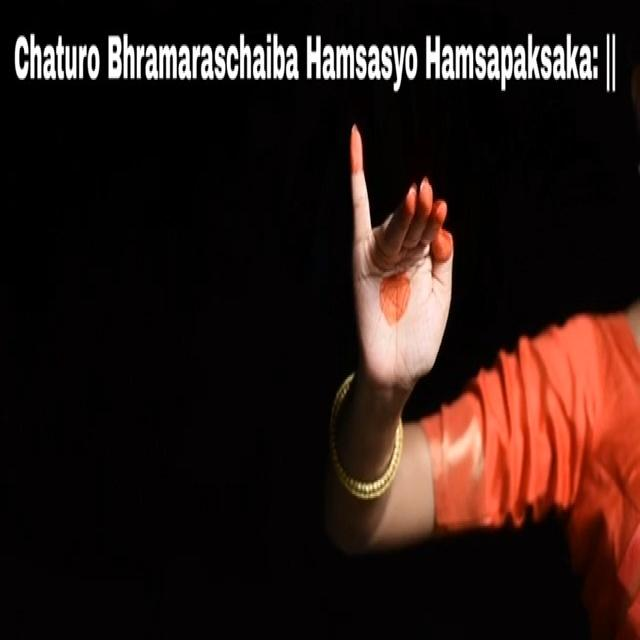Hamsapaksha: (328, 114, 482, 404)
bangle: (316, 412, 412, 509)
text: (10, 23, 626, 103)
